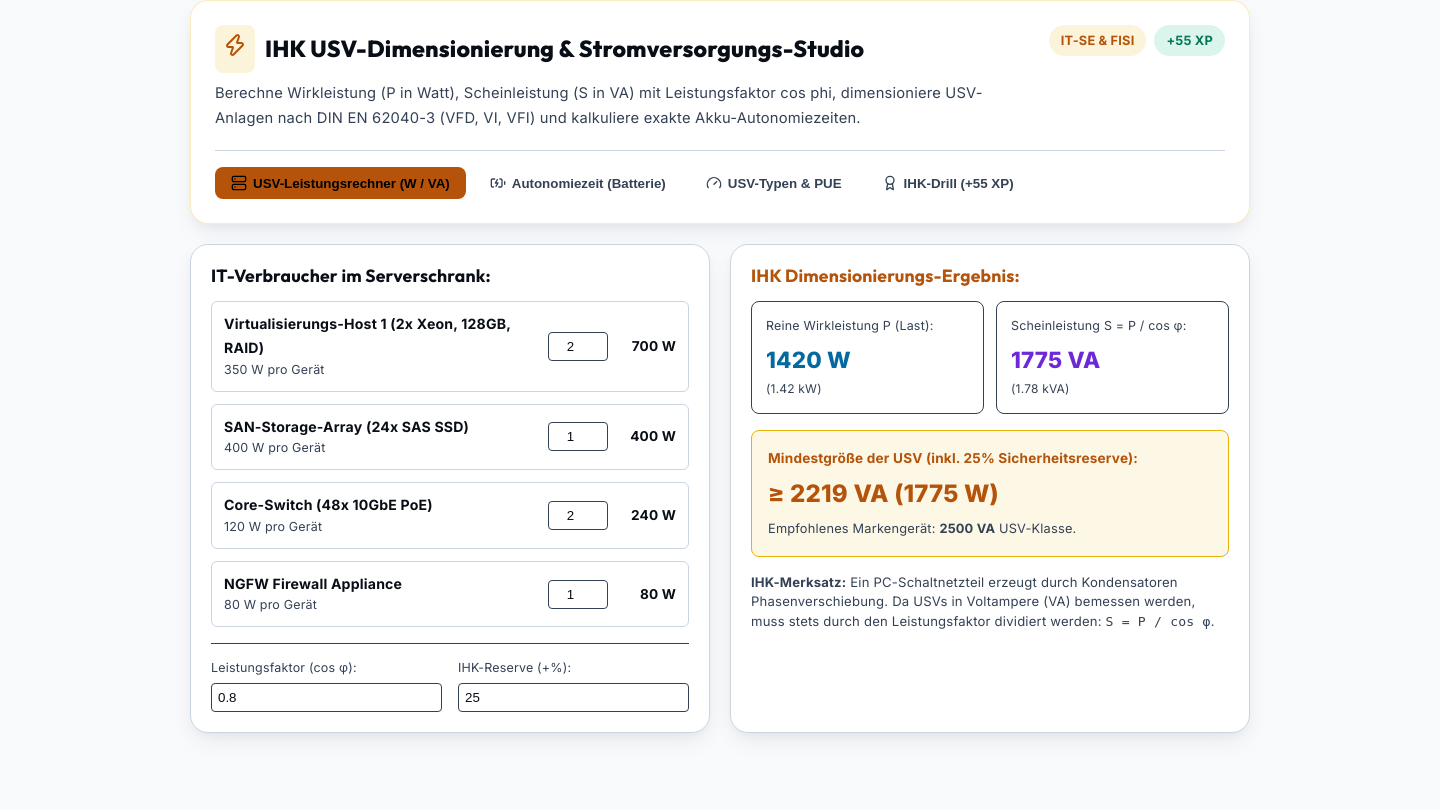
Test: UsvCalculatorLab › wechselt zu Topologien und PUE
The width and height of the screenshot is (1440, 810).
Click the button "USV-Typen & PUE" at [774, 183], box [690, 167, 858, 199]
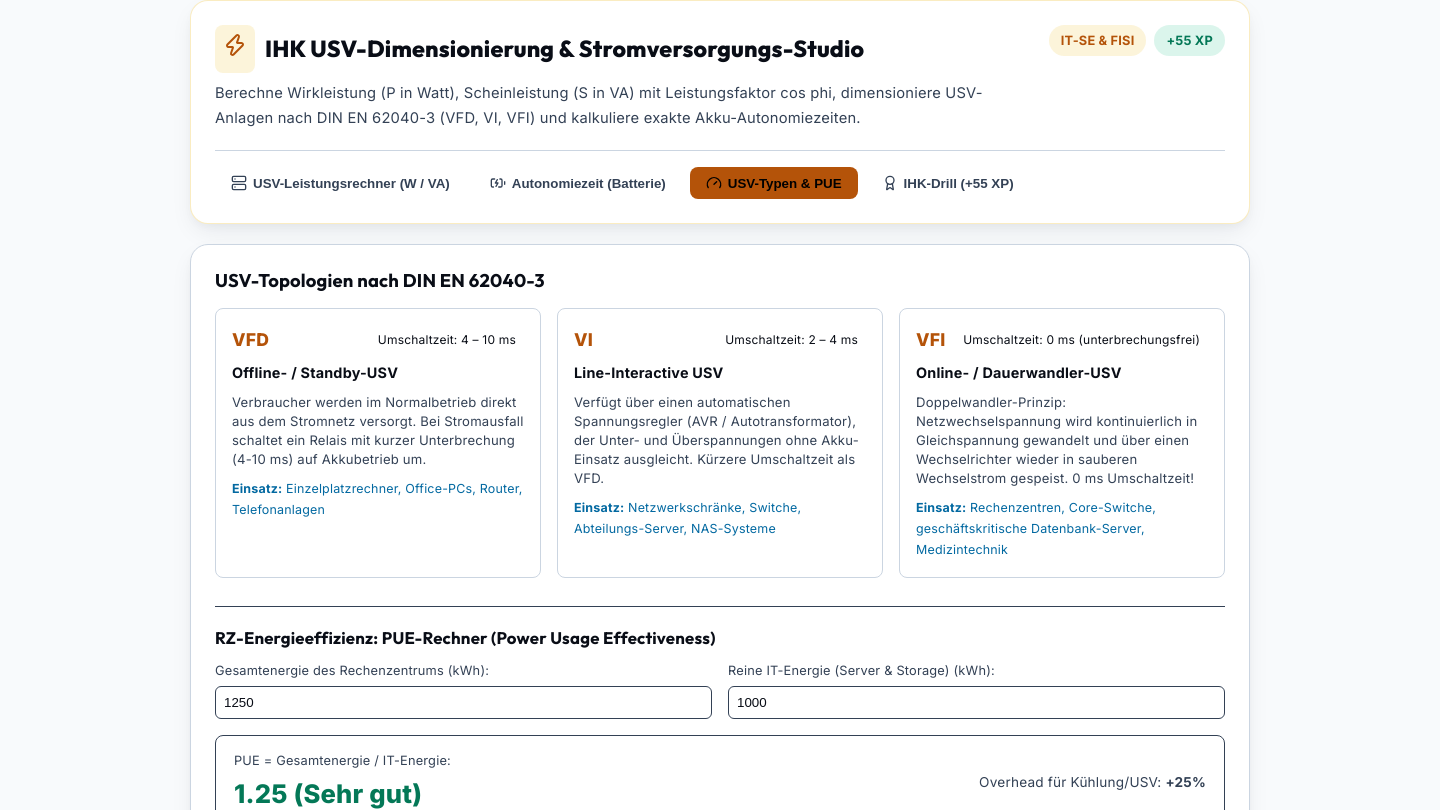
Result: the heading "USV-Topologien nach DIN EN 62040-3" is shown at [215, 269, 545, 292]
Result: the heading "RZ-Energieeffizienz: PUE-Rechner (Power Usage Effectiveness)" is shown at [215, 627, 716, 648]
